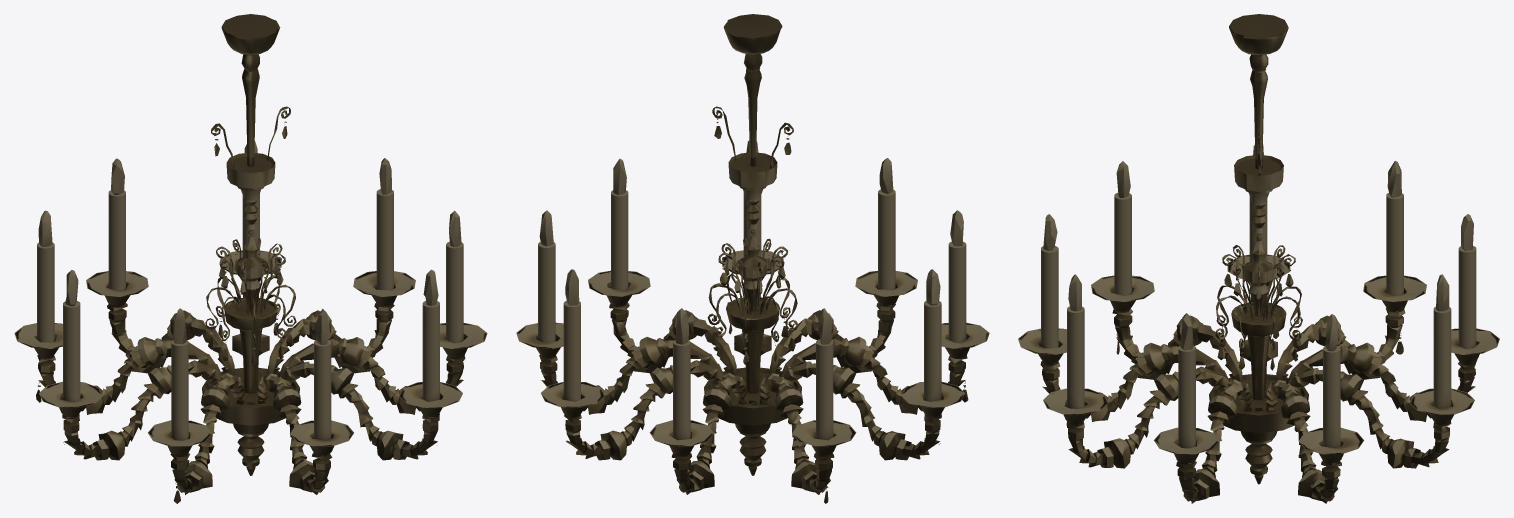
The model's file is Pendant_Lamp_c337b0aa-9aa7-5029-9822-589d670489e1.glb.
3 views of the same model, side by side, from view 1: azimuth 30°, elevation 25°; view 2: azimuth 150°, elevation 25°; view 3: azimuth 270°, elevation 25° (orthographic).
Parts seen in each view (by area): view 1: raw_model.obj; view 2: raw_model.obj; view 3: raw_model.obj.
Boxes of the visible parts, bbox=[...] form: raw_model.obj: bbox=[14, 14, 487, 503]; raw_model.obj: bbox=[516, 14, 989, 503]; raw_model.obj: bbox=[1018, 14, 1499, 503].
Size of the model in its own units: 1.05 by 1.12 by 1.07.
1 material, 1 textured.
